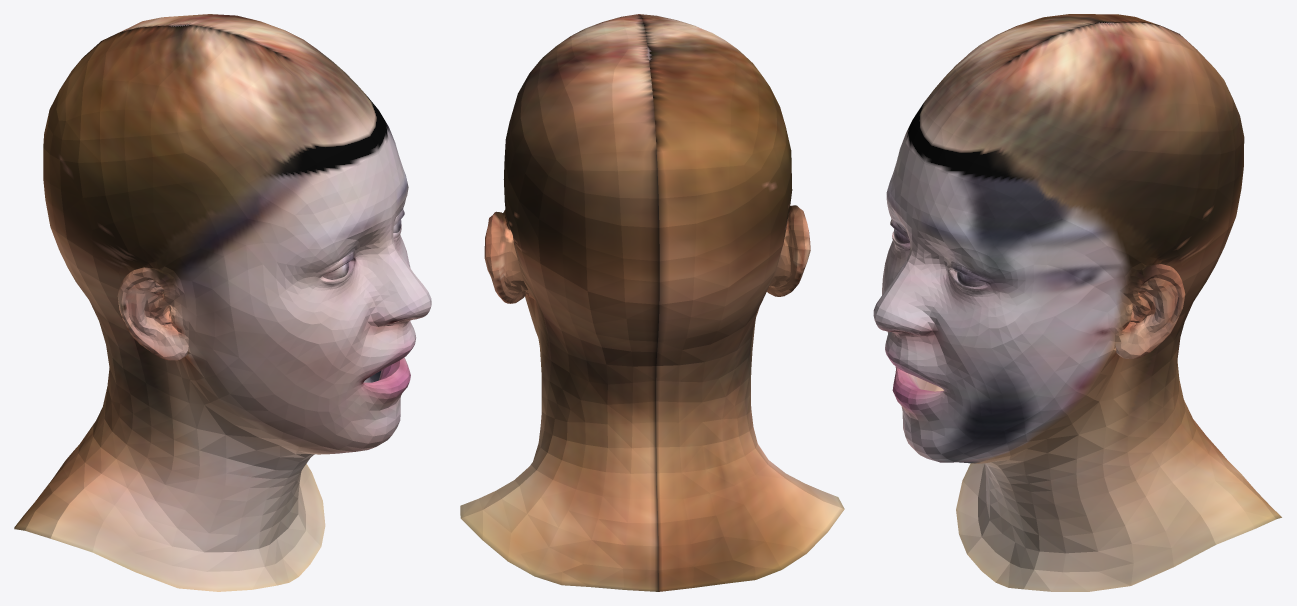
The model's file is cheo1_frame0007.obj.
3 views of the same model, side by side, from view 1: azimuth 30°, elevation 25°; view 2: azimuth 150°, elevation 25°; view 3: azimuth 270°, elevation 25° (orthographic).
Bounding box in the file's own units: 0.2137 × 0.3202 × 0.2231.
Materials: 1 (1 with a texture image).
